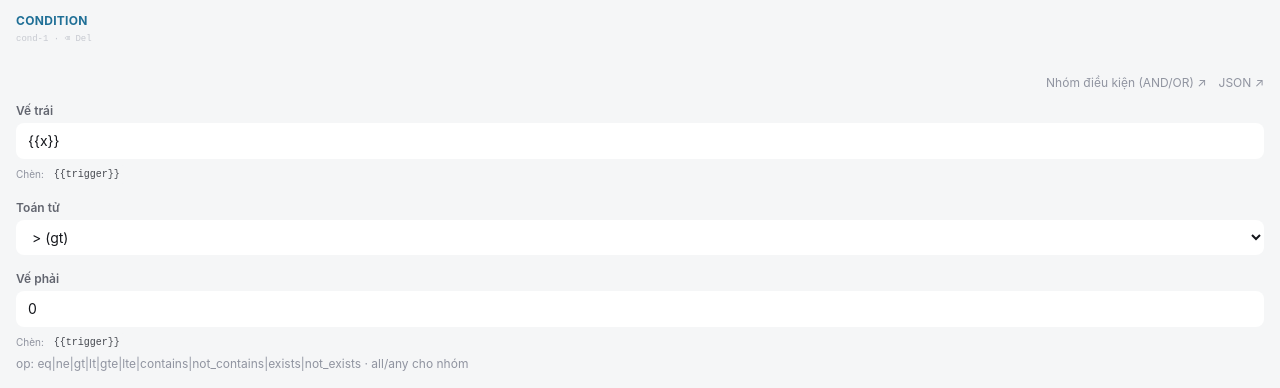
ConditionForm — structured mode (default for simple predicate) › JSON mode toggle switches to textarea
Click the button "JSON ↗". click: (1241, 82)
box: [1218,74,1264,90]
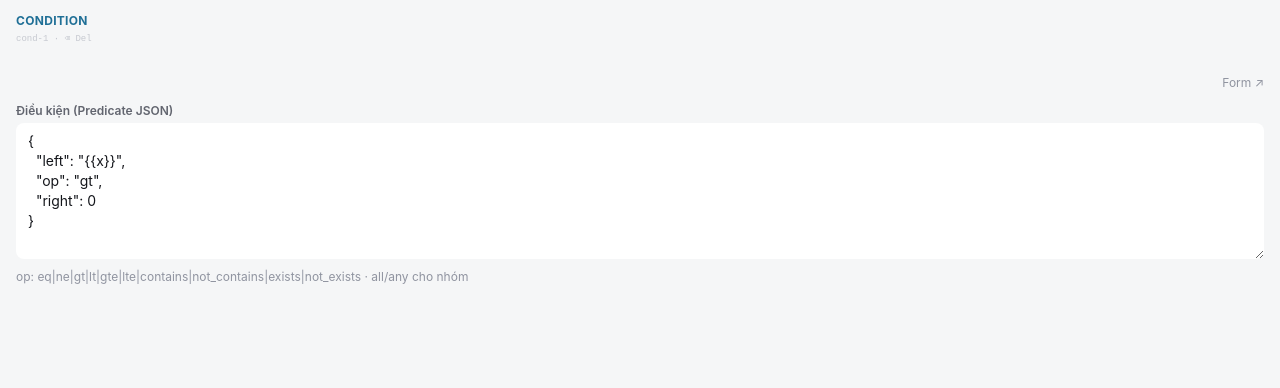
Expected: the text box with placeholder "left" is shown, [16,122,1264,258]
